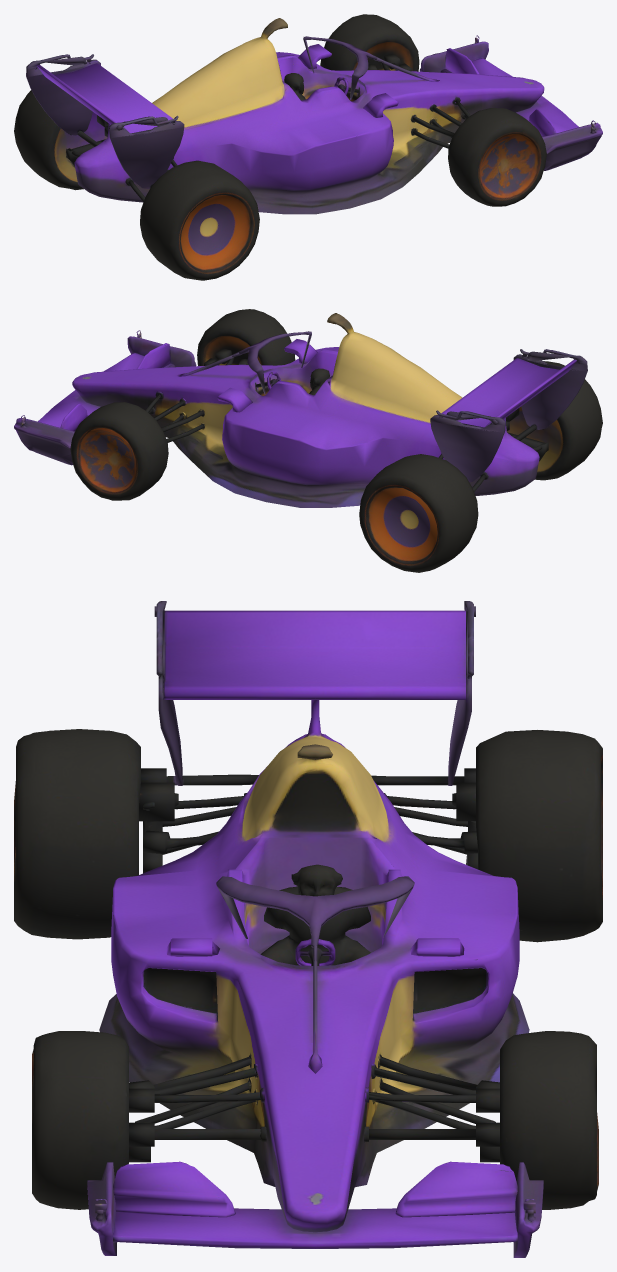
Rendered from r33-racecar.glb.
The picture shows the model from 3 angles, top to bottom: view 1: azimuth 30°, elevation 25°; view 2: azimuth 150°, elevation 25°; view 3: azimuth 270°, elevation 25°; orthographic projection. The views are drawn at different scales.
Visible parts, largest first — view 1: tripo_node_f63b9120-eb7e-4751-94f0-9d5d2a286906; view 2: tripo_node_f63b9120-eb7e-4751-94f0-9d5d2a286906; view 3: tripo_node_f63b9120-eb7e-4751-94f0-9d5d2a286906.
Part boxes in pixels (x1,y1,x2,y2): tripo_node_f63b9120-eb7e-4751-94f0-9d5d2a286906: (14,14,602,280); tripo_node_f63b9120-eb7e-4751-94f0-9d5d2a286906: (14,309,602,572); tripo_node_f63b9120-eb7e-4751-94f0-9d5d2a286906: (14,601,602,1257).
Size of the model in its own units: 0.998 by 0.3457 by 0.5801.
1 material, 1 textured.
